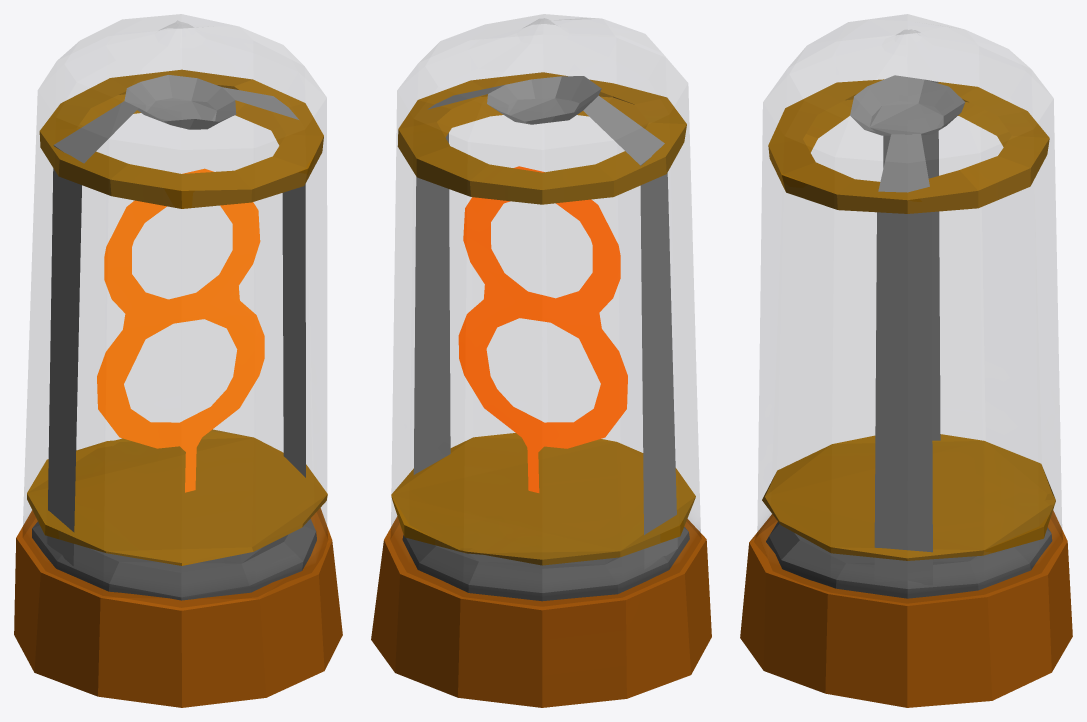
File: SteamPunk_Number_08.glb
3 renders of one model, left to right at view 1: azimuth 30°, elevation 25°; view 2: azimuth 150°, elevation 25°; view 3: azimuth 270°, elevation 25°, orthographic.
Parts seen in each view (by area): view 1: SteamPank_Number_08; view 2: SteamPank_Number_08; view 3: SteamPank_Number_08.
Part boxes in pixels (x1,y1,x2,y2): SteamPank_Number_08: [14, 14, 342, 707]; SteamPank_Number_08: [371, 14, 711, 707]; SteamPank_Number_08: [740, 14, 1072, 707].
Size of what is drawn, in the model's own units: 0.455 by 0.9209 by 0.456.
2 materials, 2 textured.
